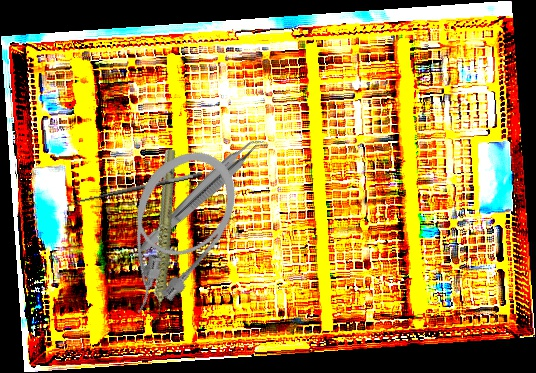Cannula: (87, 134, 255, 330)
Handpiece: (110, 146, 213, 328)
Hook Surgical: (63, 169, 206, 217)
Tissue Forceps: (135, 128, 270, 262)
